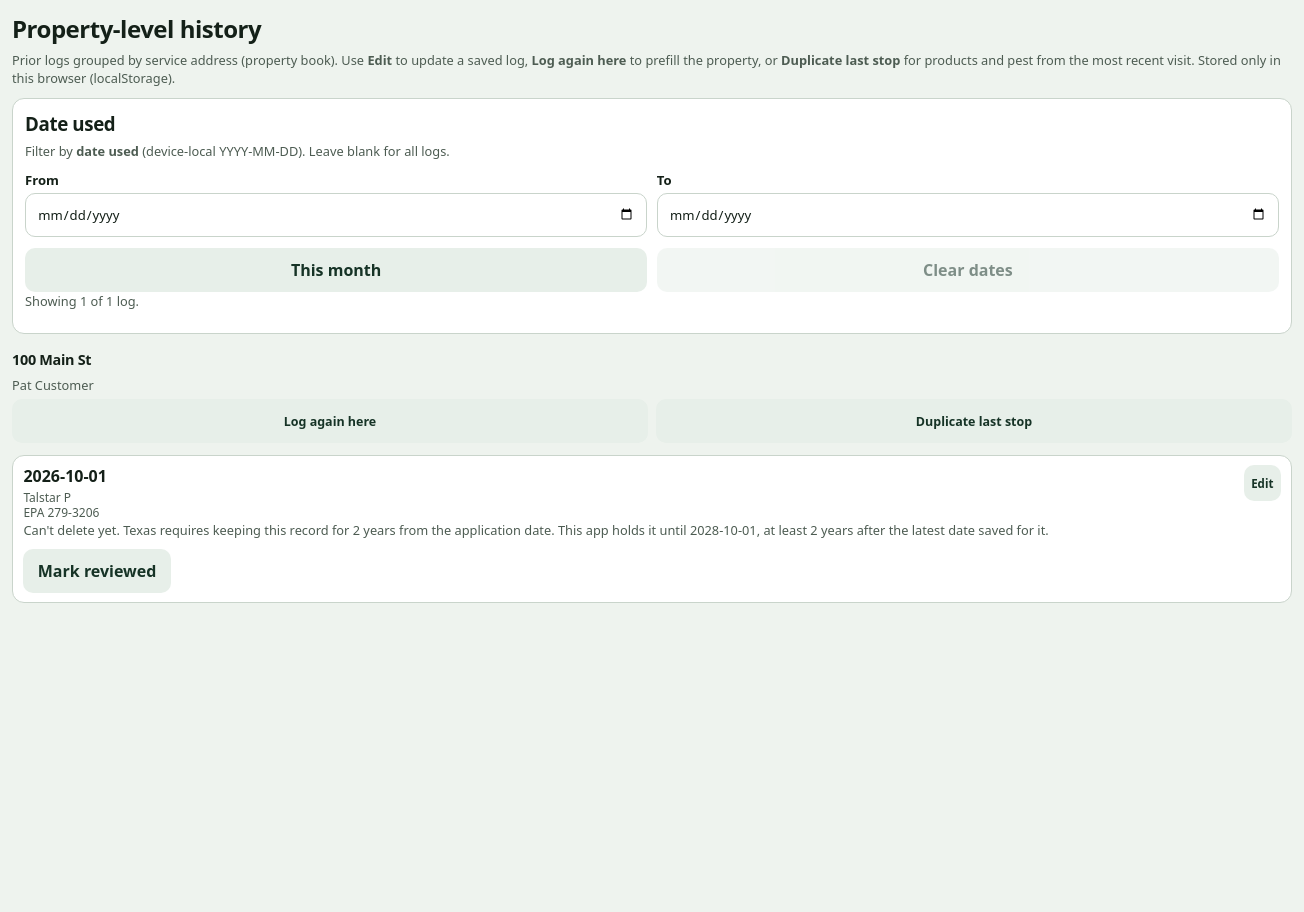
Test: History — Mark reviewed (office) › no roster: asks to add people first
Click the button "Mark reviewed" at (97, 571), box [23,549,171,593]
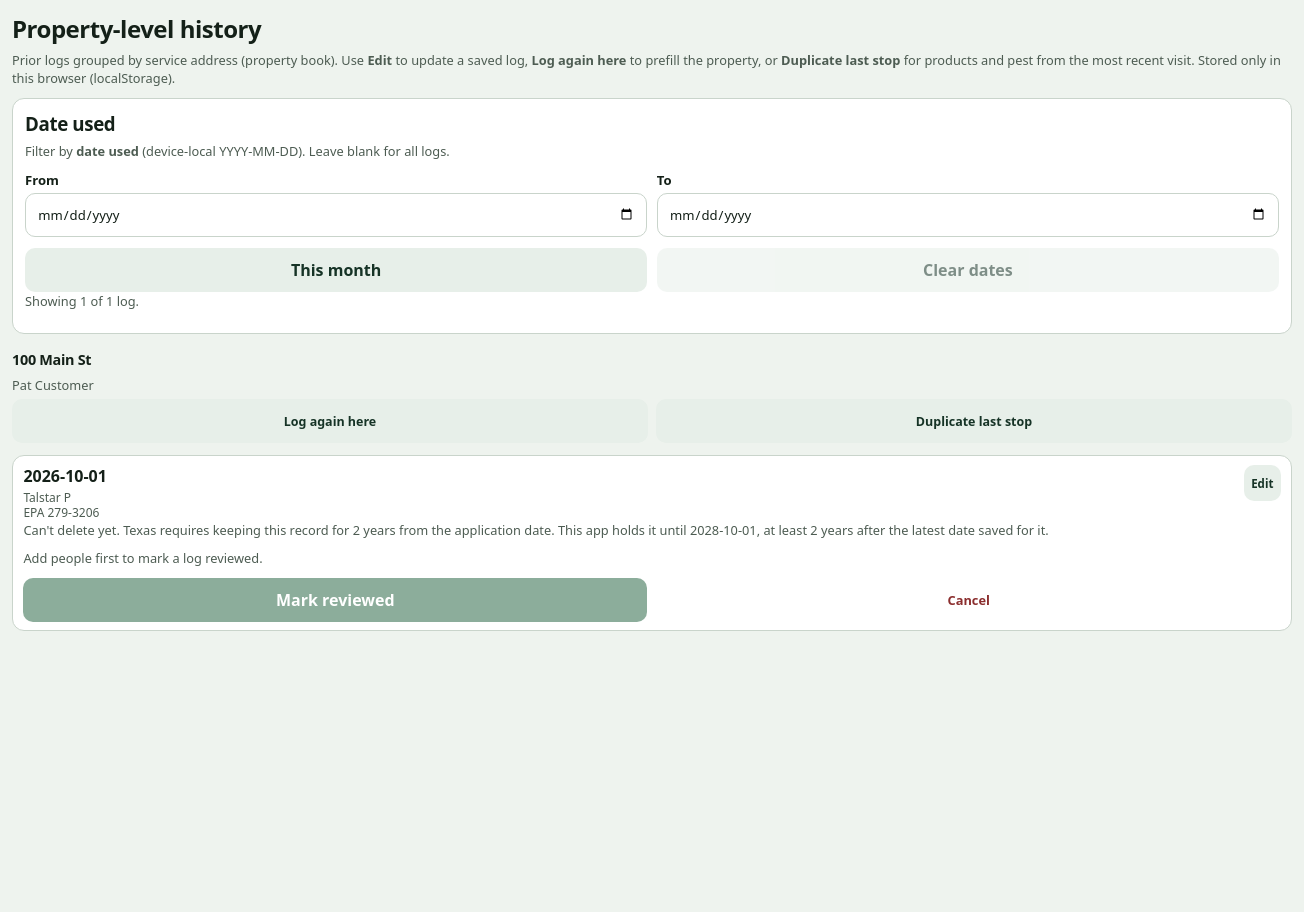
Expected: the text "Add people first to mark a log reviewed." is shown, [23,549,263,567]
